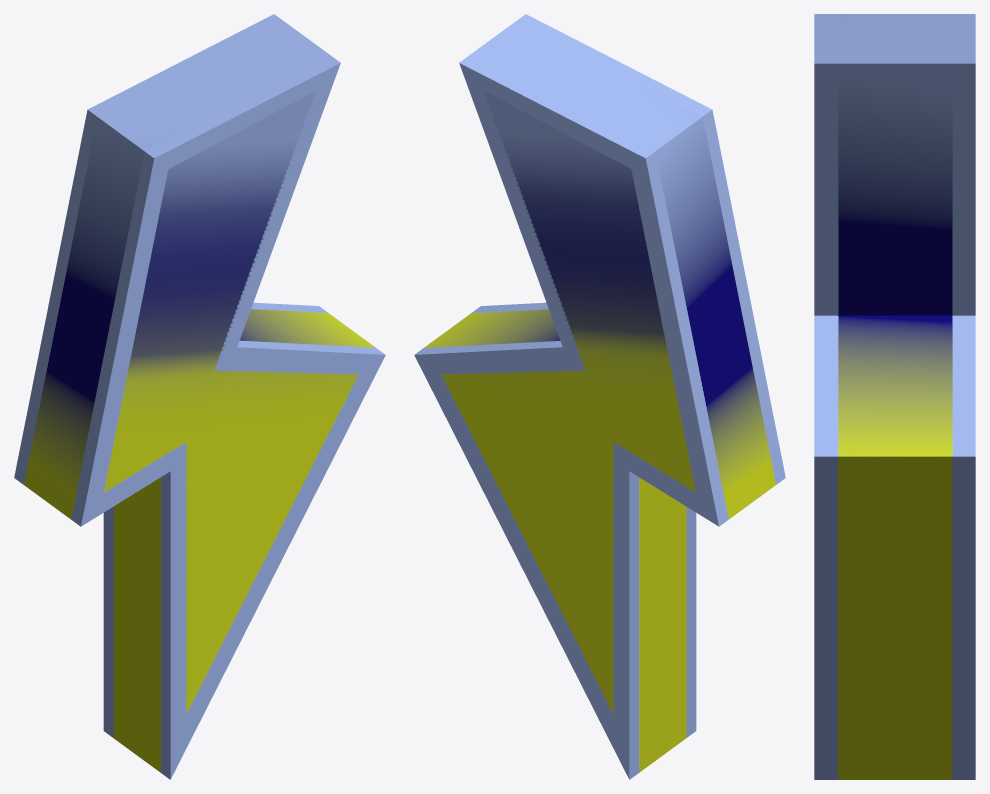
Rendered from lightning.glb.
3 renders of one model, left to right at view 1: azimuth 30°, elevation 25°; view 2: azimuth 150°, elevation 25°; view 3: azimuth 270°, elevation 25°, orthographic. The views are drawn at different scales.
Visible parts, largest first — view 1: LightingBolt; view 2: LightingBolt; view 3: LightingBolt.
Boxes of the visible parts, x1=… form: LightingBolt: x1=14, y1=14, x2=385, y2=779; LightingBolt: x1=414, y1=14, x2=785, y2=779; LightingBolt: x1=814, y1=14, x2=975, y2=779.
Size of the model in its own units: 0.8077 by 1.71 by 0.3062.
Materials: 1 (1 with a texture image).
